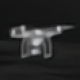plane: (7, 23, 77, 61)
